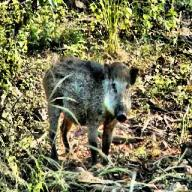boar: (42, 54, 139, 165)
